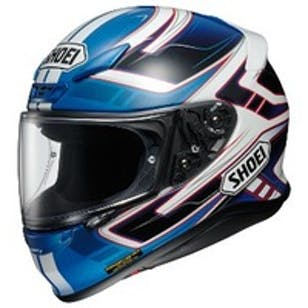with_helmet: (11, 4, 294, 304)
